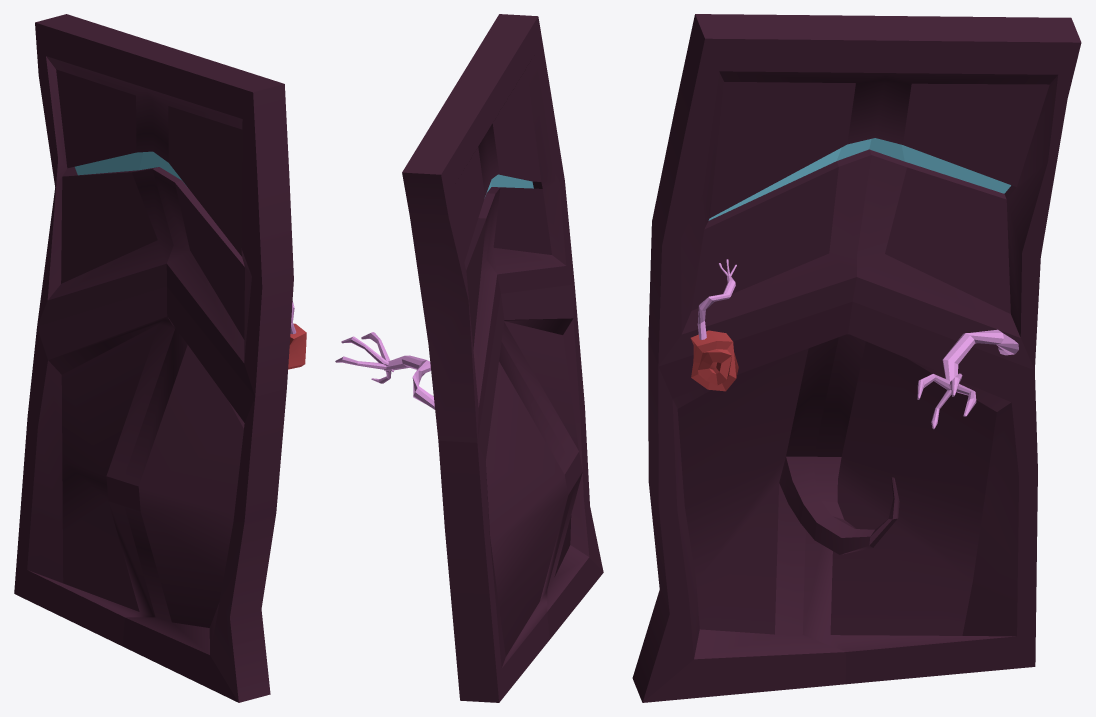
The model's file is animatedDoor.fbx.
The picture shows the model from 3 angles, left to right: view 1: azimuth 30°, elevation 25°; view 2: azimuth 150°, elevation 25°; view 3: azimuth 270°, elevation 25°; orthographic projection. The views are drawn at different scales.
Visible parts, largest first — view 1: Room3:pCylinder9; view 2: Room3:pCylinder9; view 3: Room3:pCylinder9.
Boxes of the visible parts, x1,y1,x2,y2 form: Room3:pCylinder9: (14,14,306,702); Room3:pCylinder9: (335,14,603,702); Room3:pCylinder9: (632,14,1081,702).
Bounding box in the file's own units: 14.82 × 42.77 × 25.16.
